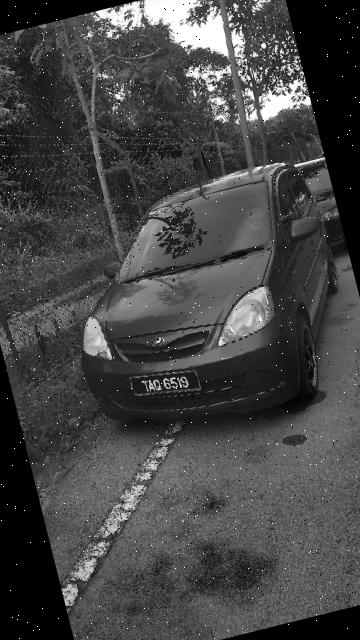License_Plate: (124, 357, 208, 413)
car: (42, 149, 360, 466)
